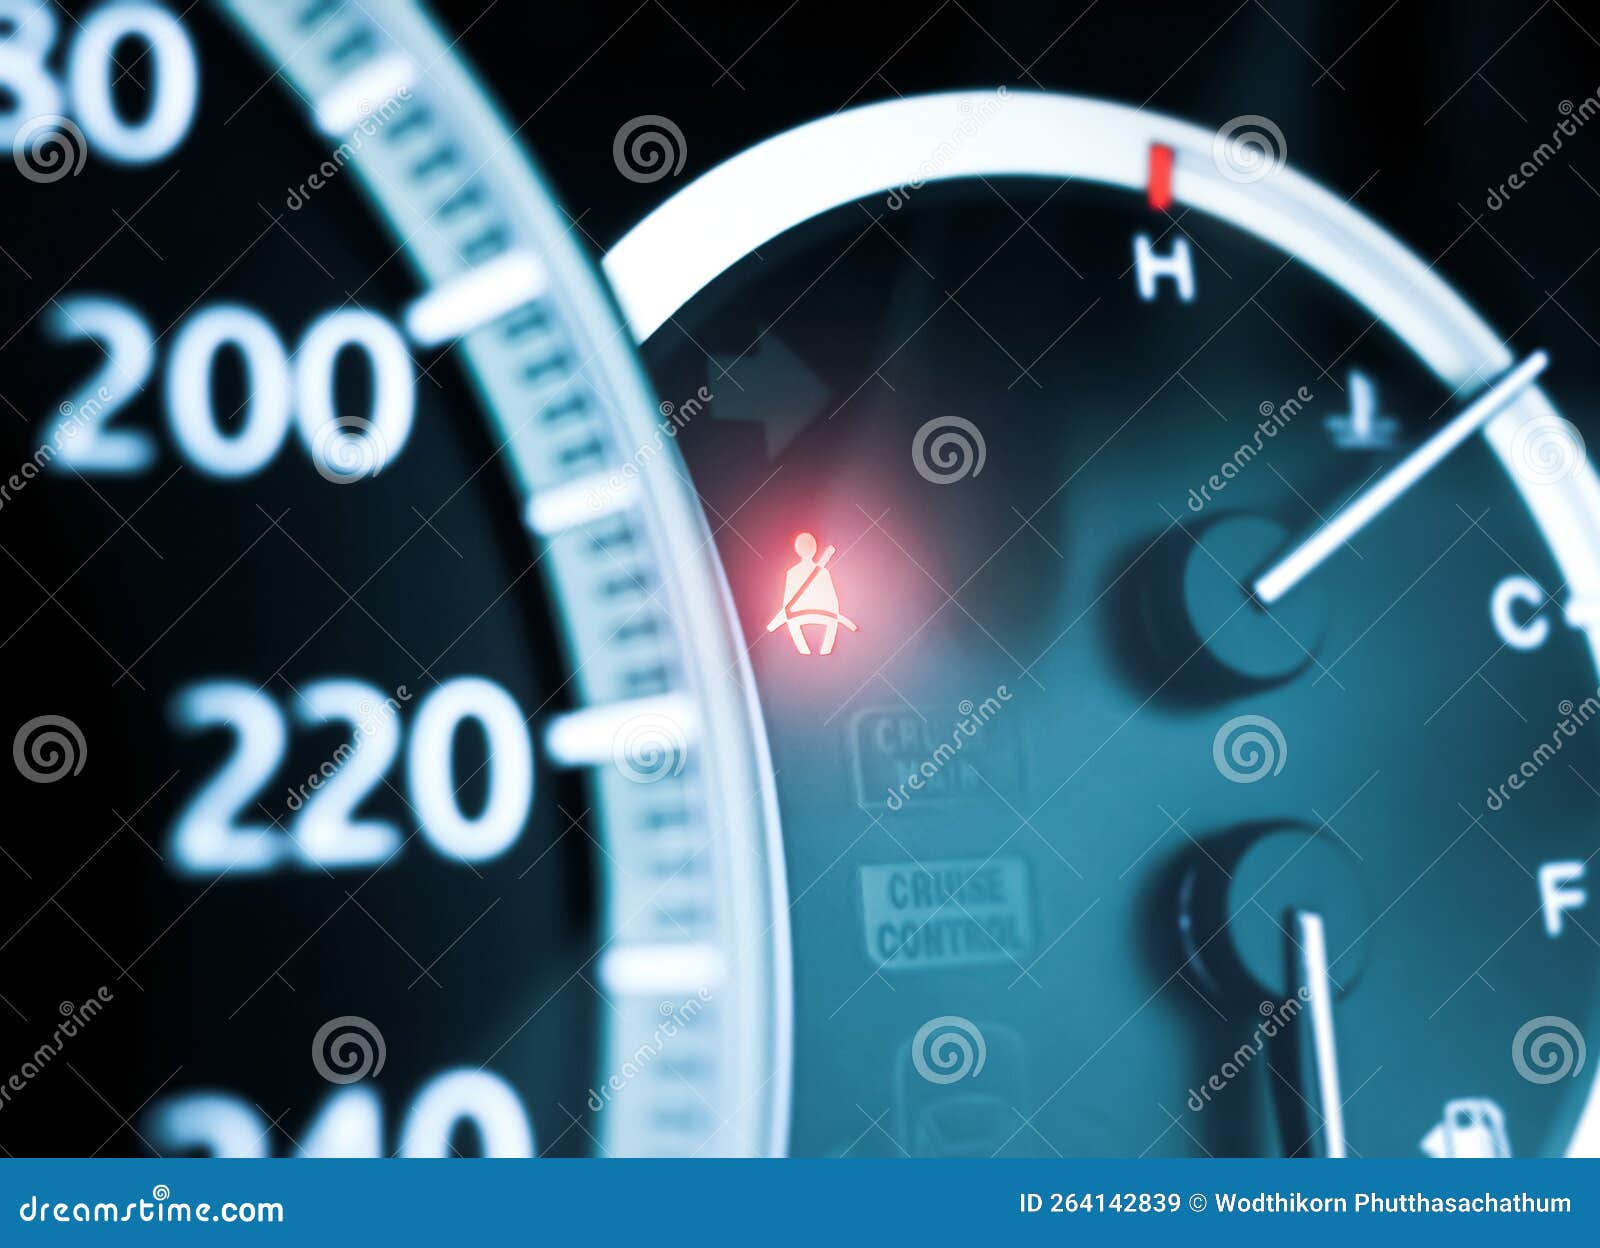ABS: (759, 529, 863, 673)
